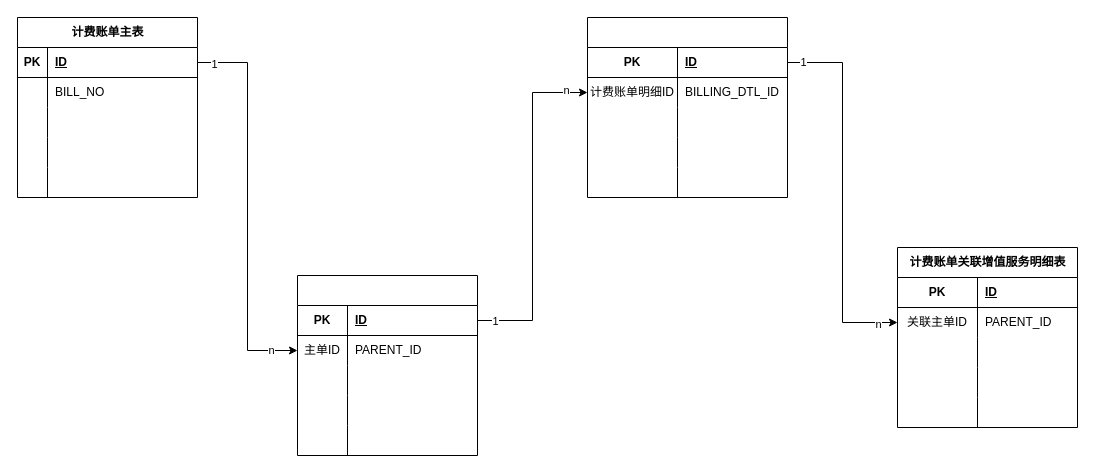
This 1095x473 diagram has some shape labels left out. The box of each missing label's shape, as (x1, y1, x2, y2) in pixels:
计费账单关联增值服务主表: (586, 16, 788, 198)
计费账单明细表: (296, 274, 478, 456)
